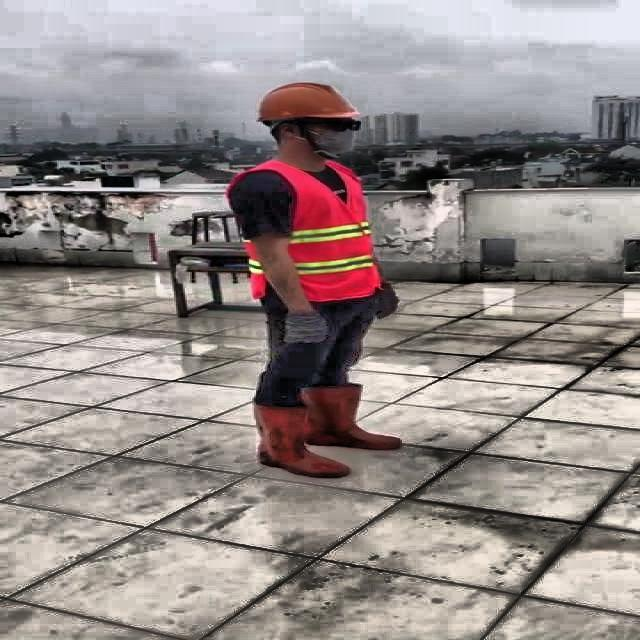safety_helmet: (249, 79, 358, 128)
safety_jacket: (222, 159, 382, 303)
